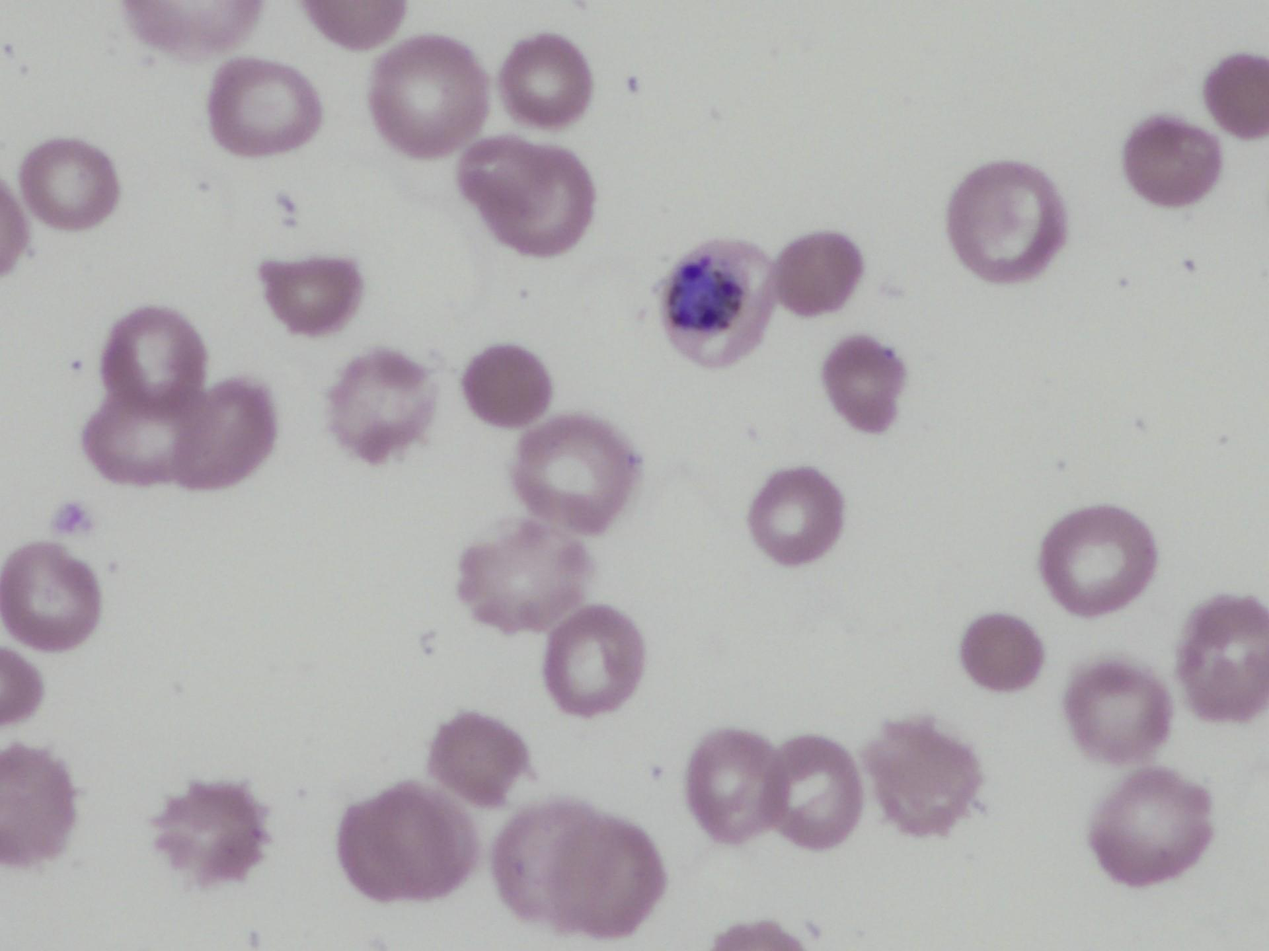Infected: (662, 241, 775, 363)
Uninfected: (492, 799, 661, 936), (457, 133, 592, 255), (338, 784, 475, 903), (457, 518, 592, 633), (947, 164, 1072, 280), (1089, 768, 1211, 886), (512, 414, 635, 531), (369, 34, 488, 152), (863, 717, 982, 835), (147, 779, 270, 889), (326, 349, 438, 462), (1044, 507, 1157, 618), (168, 381, 275, 489), (1, 541, 102, 653), (207, 57, 319, 157), (763, 736, 863, 847), (1177, 598, 1269, 718), (543, 607, 644, 714), (686, 731, 782, 843), (1064, 661, 1170, 761), (101, 305, 205, 406), (429, 710, 530, 808), (19, 137, 120, 230), (81, 400, 186, 488), (1, 746, 76, 864), (1123, 115, 1221, 205), (751, 468, 842, 564), (500, 33, 592, 127), (257, 255, 358, 334), (822, 336, 905, 431), (123, 1, 259, 57), (774, 231, 861, 314), (462, 344, 550, 425), (960, 613, 1044, 691), (1204, 54, 1269, 134)
